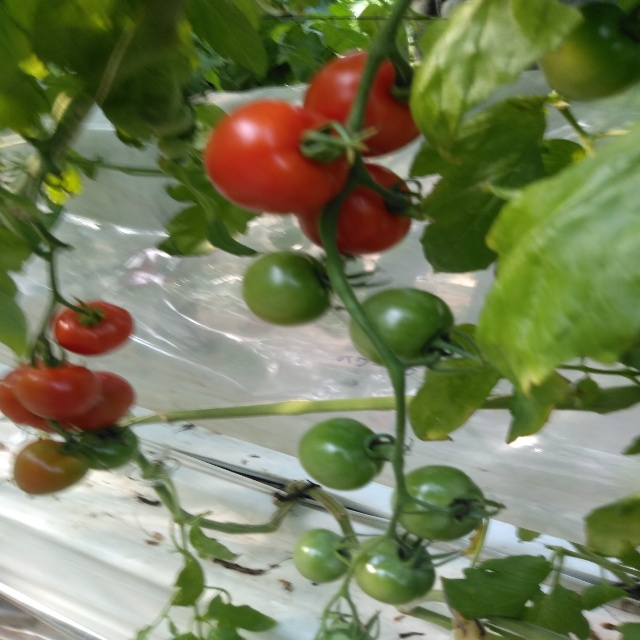l_fully_ripened: (203, 99, 355, 215), (302, 51, 421, 159), (293, 161, 413, 256), (13, 366, 102, 422), (53, 301, 133, 356), (63, 371, 135, 429)
l_green: (536, 1, 640, 103), (351, 287, 454, 368), (391, 465, 484, 542), (241, 251, 332, 326), (298, 417, 387, 490), (351, 533, 436, 604), (293, 528, 350, 585), (69, 424, 139, 470)
l_half_ripened: (12, 440, 88, 495)
